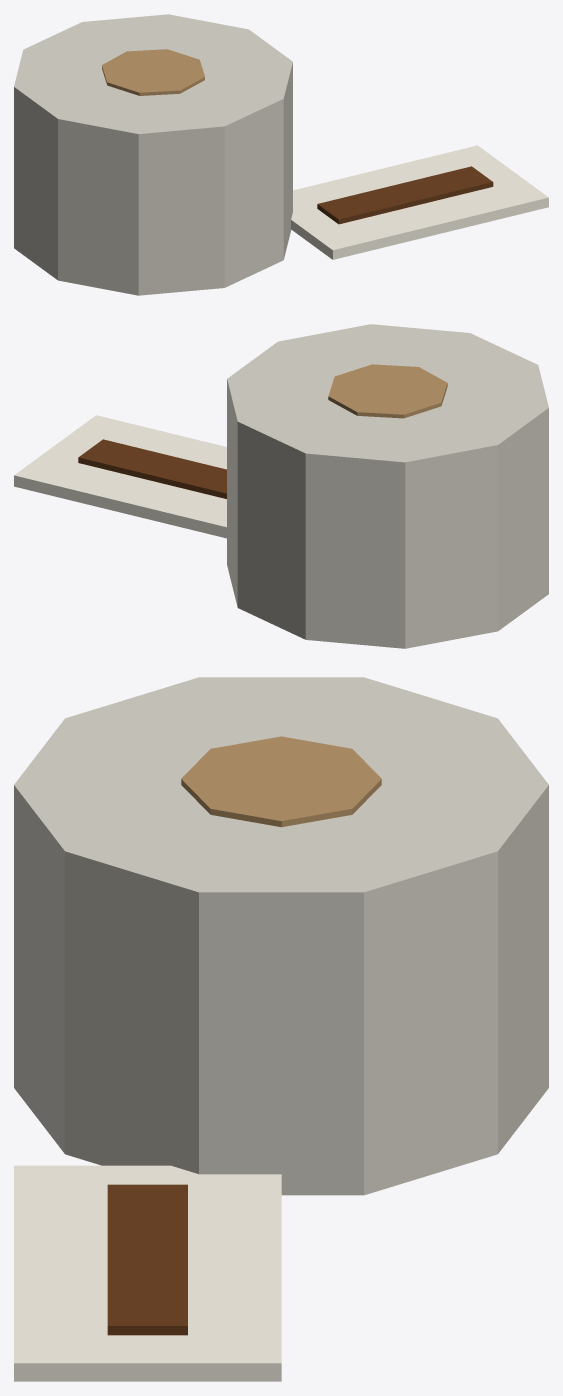
The model's file is antique_labels.glb.
The picture shows the model from 3 angles, top to bottom: view 1: azimuth 30°, elevation 25°; view 2: azimuth 150°, elevation 25°; view 3: azimuth 270°, elevation 25°; orthographic projection. The views are drawn at different scales.
Parts seen in each view (by area): view 1: reel_label_white, label_label_white, ink_label_ink, core_label_core; view 2: reel_label_white, label_label_white, core_label_core, ink_label_ink; view 3: reel_label_white, label_label_white, core_label_core, ink_label_ink.
Part boxes in pixels (x1,y1,x2,y2): reel_label_white: (14,14,292,295); label_label_white: (291,145,548,259); ink_label_ink: (317,166,493,224); core_label_core: (102,49,204,95); reel_label_white: (227,324,548,648); label_label_white: (14,415,226,538); core_label_core: (328,364,447,418); ink_label_ink: (78,439,226,498); reel_label_white: (14,677,548,1195); label_label_white: (14,1165,281,1381); core_label_core: (181,736,381,827); ink_label_ink: (107,1184,187,1335).
Size of the model in its own units: 0.143 by 0.052 by 0.08.
